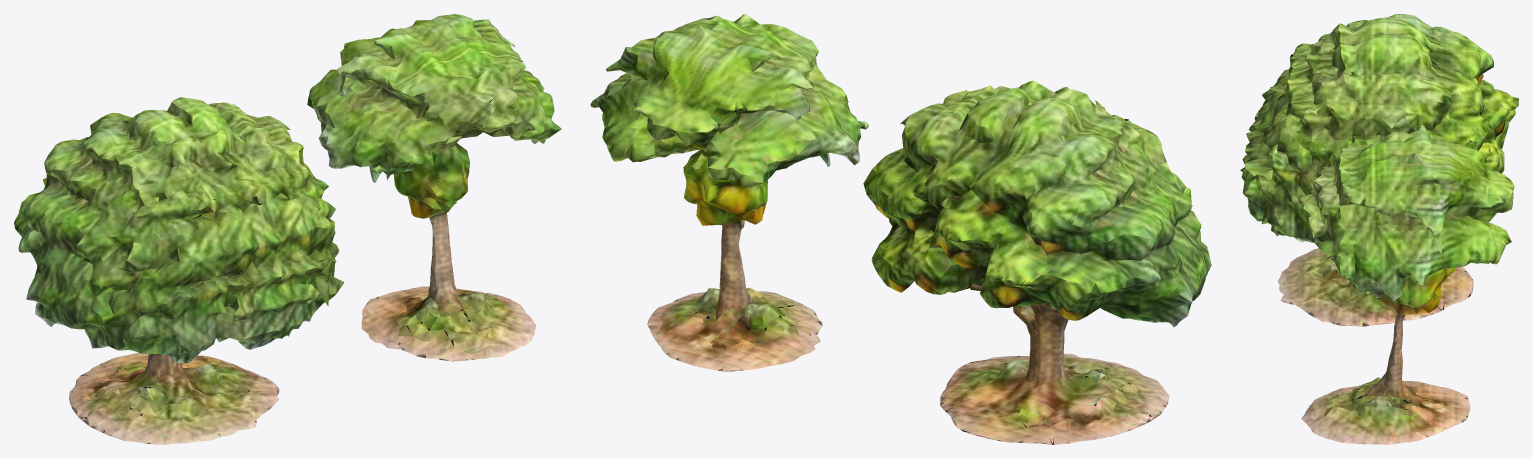
File: tree.glb
3 renders of one model, left to right at view 1: azimuth 30°, elevation 25°; view 2: azimuth 150°, elevation 25°; view 3: azimuth 270°, elevation 25°, orthographic. The views are drawn at different scales.
Parts seen in each view (by area): view 1: world; view 2: world; view 3: world.
Part boxes in pixels (x1=…): world: x1=14, y1=14, x2=561, y2=444; world: x1=590, y1=14, x2=1211, y2=444; world: x1=1240, y1=14, x2=1518, y2=444.
Bounding box in the file's own units: 0.9272 × 0.4818 × 0.4473.
1 material, 1 textured.
